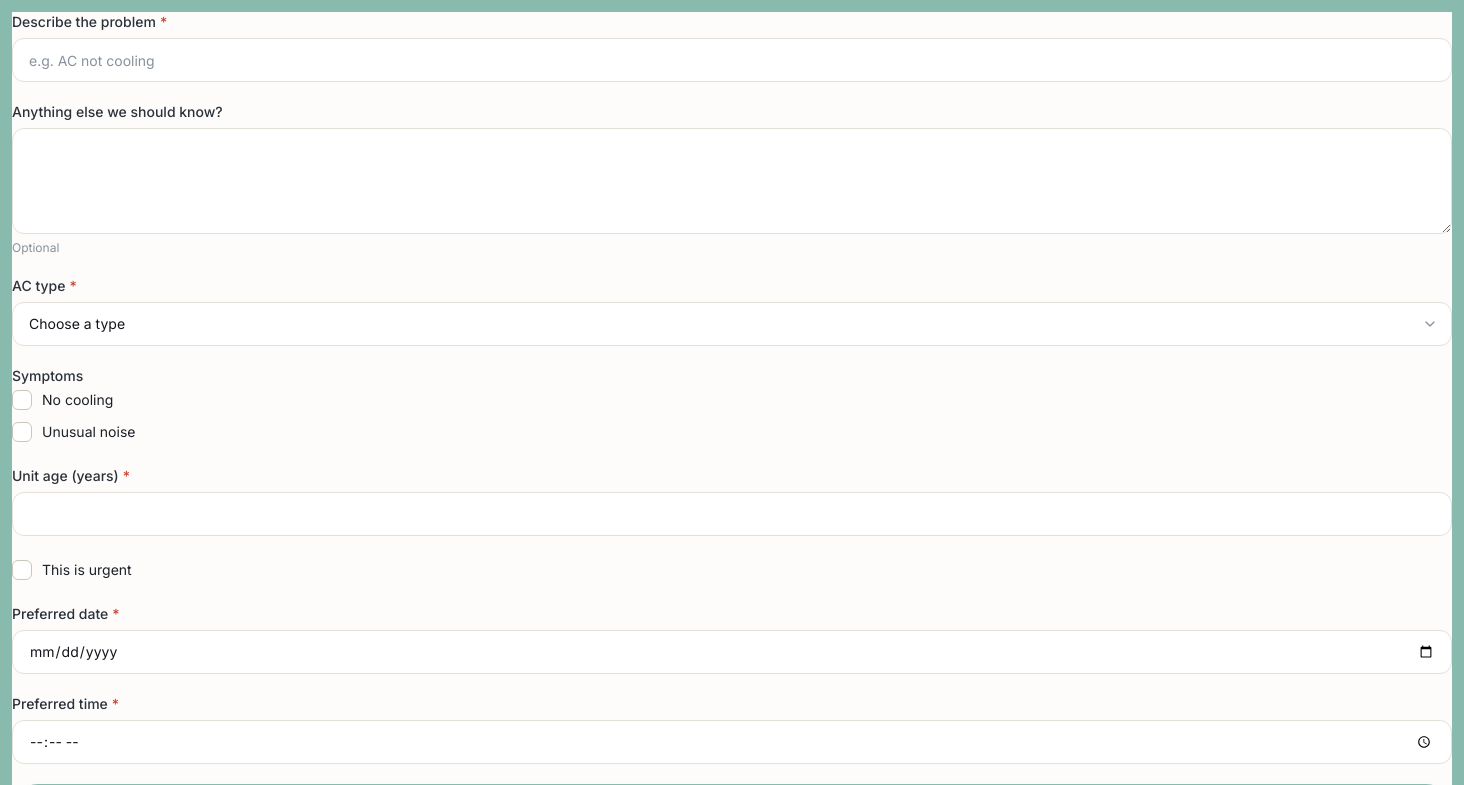
Scenario: RequirementForm › shows a validation message once a required field is touched and left invalid
Click the field labelled "Describe the problem*" at coordinates (732, 60), box x1=12 y1=38 x2=1452 y2=82
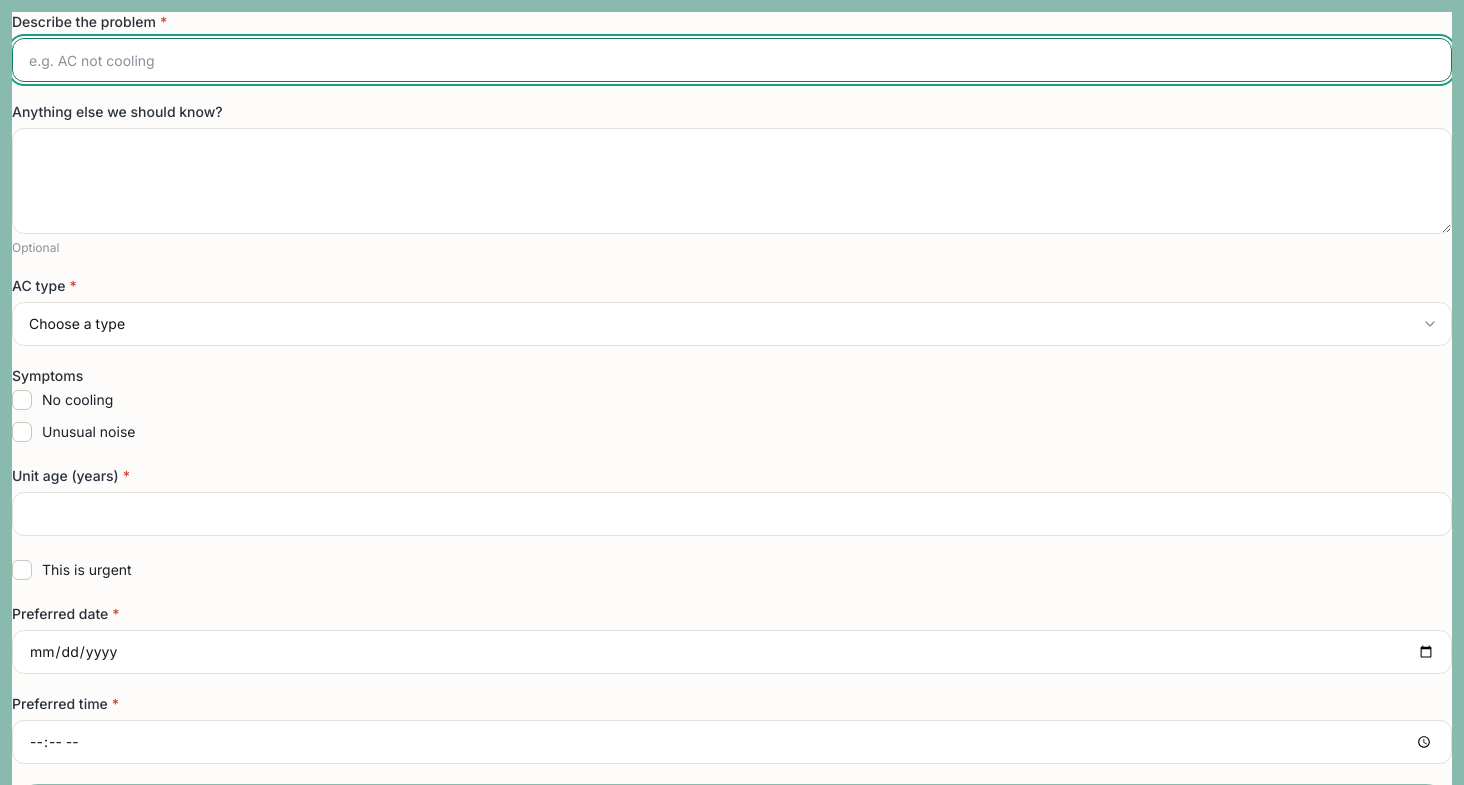
Press Tab
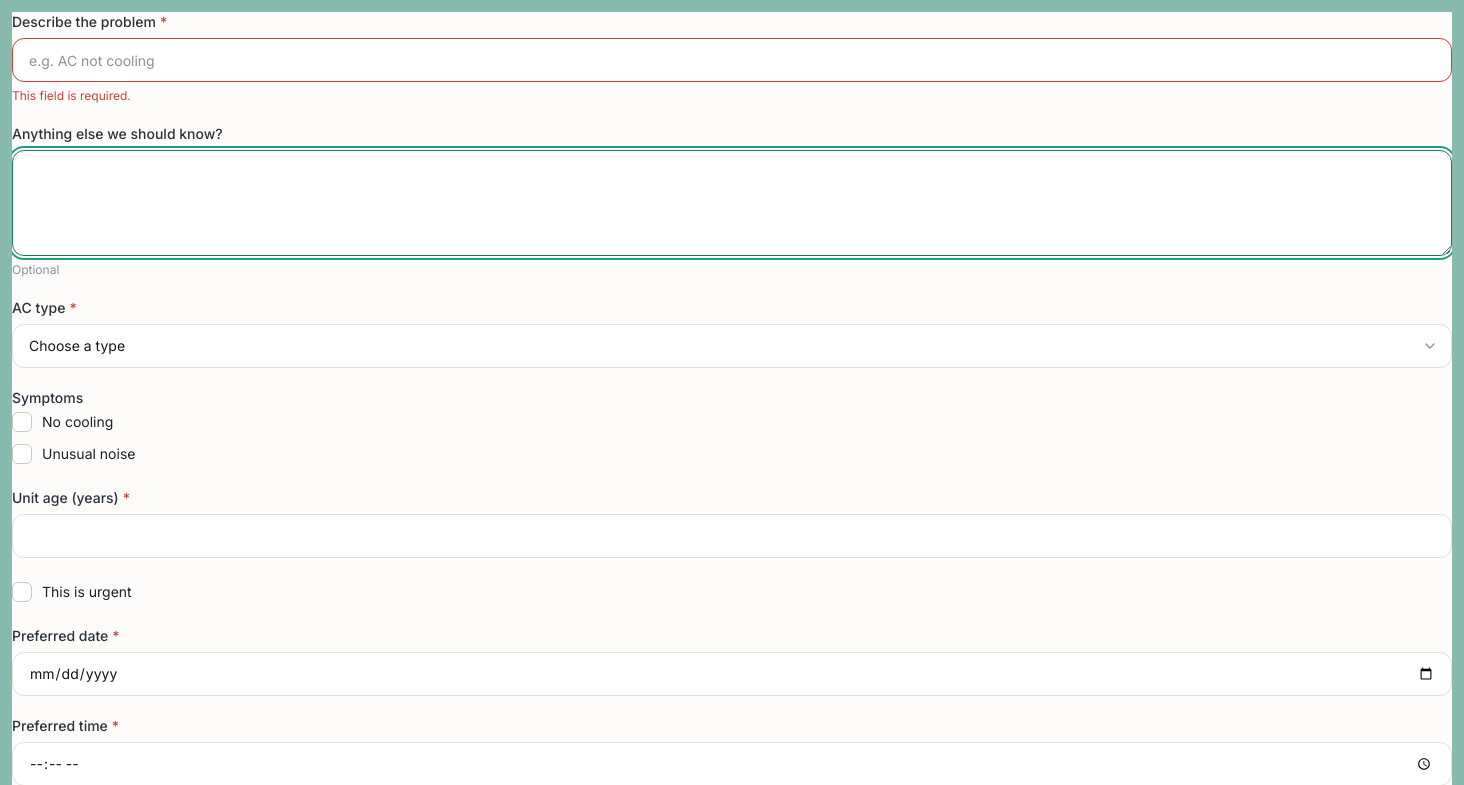
Expected: the text "This field is required." is shown, x1=12 y1=88 x2=131 y2=103
